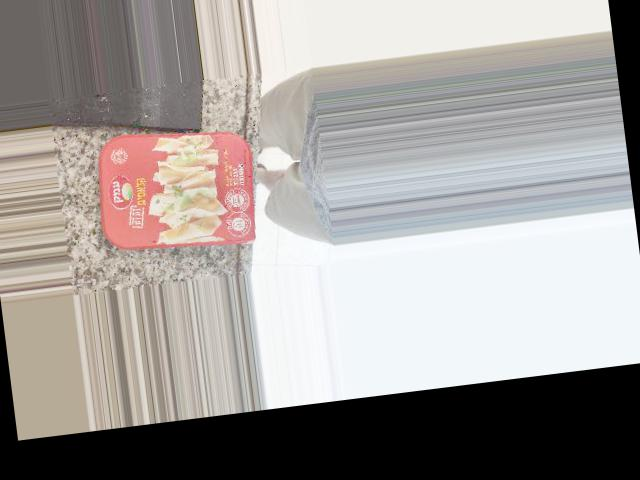cheese: (117, 97, 289, 240)
